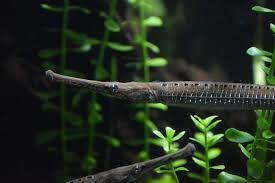Long-Snouted Pipefish: (40, 62, 275, 118), (56, 144, 198, 183)
